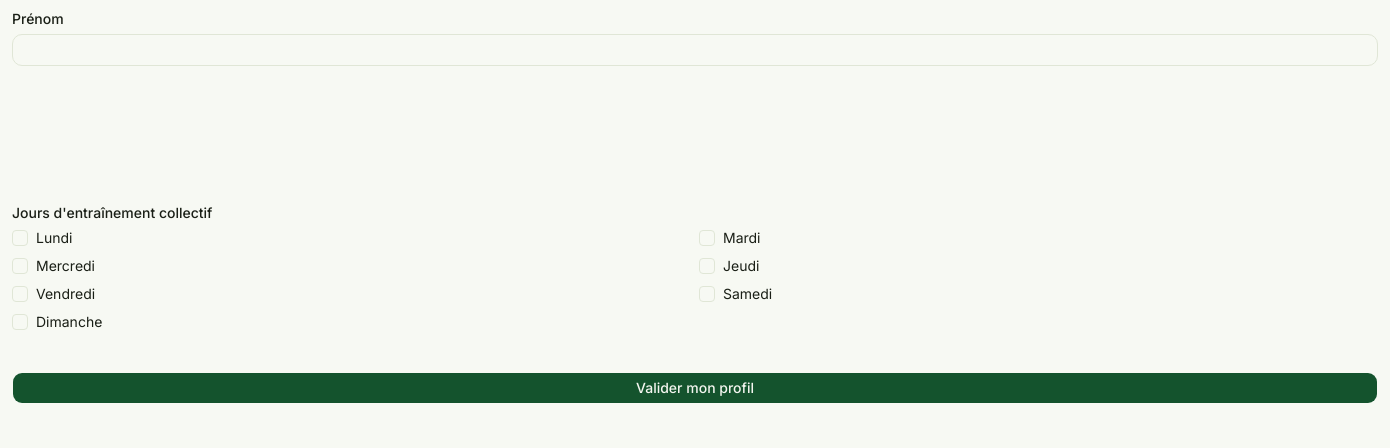
Test: OnboardingForm › affiche les erreurs de validation et n'appelle pas l'action
Click the button "Valider mon profil" at (695,388), box 12,372 -> 1378,404
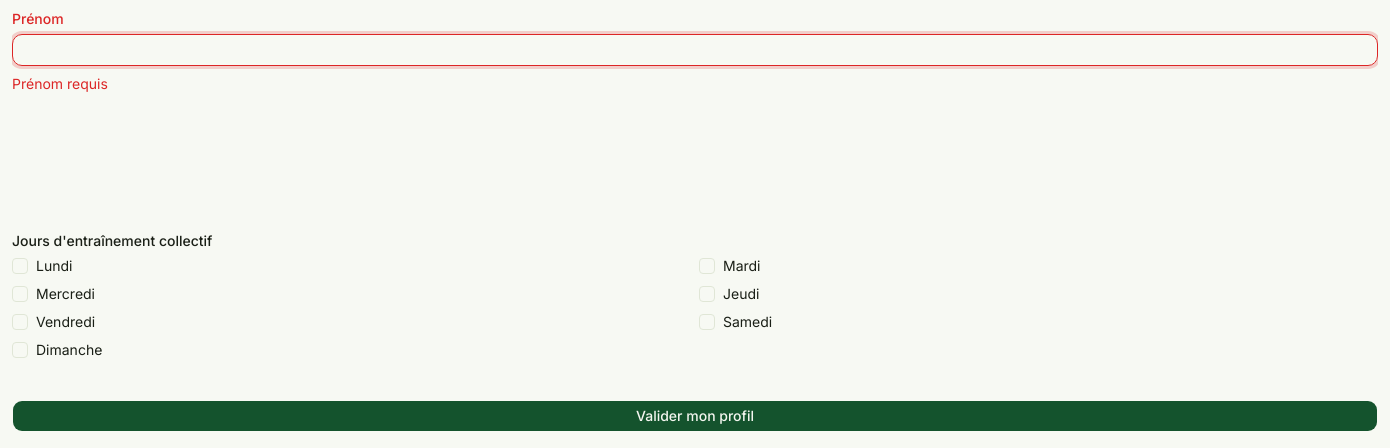
Now the text "Prénom requis" is shown, box 12,75 -> 108,92
